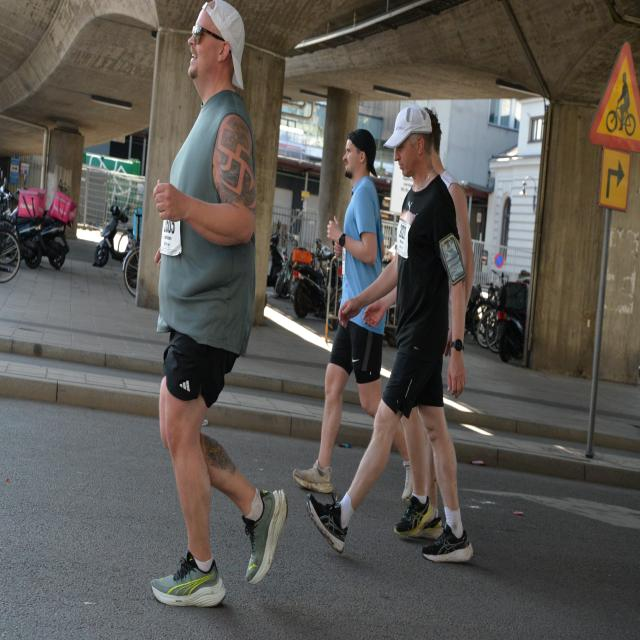runner-detect: (146, 4, 285, 614), (366, 111, 486, 566), (290, 103, 386, 509)
